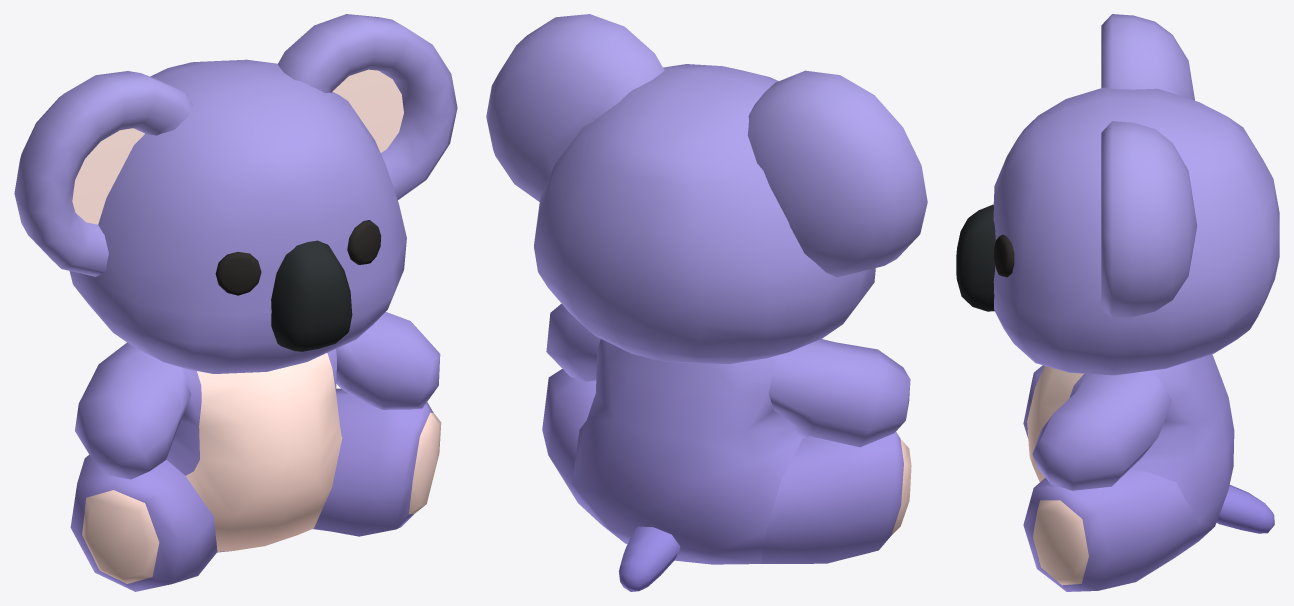
File: Koala_01.glb
3 views of the same model, side by side, from view 1: azimuth 30°, elevation 25°; view 2: azimuth 150°, elevation 25°; view 3: azimuth 270°, elevation 25° (orthographic). The views are drawn at different scales.
Visible parts, largest first — view 1: Koala_01; view 2: Koala_01; view 3: Koala_01.
Part boxes in pixels (bbox=[...]): Koala_01: bbox=[14, 14, 457, 591]; Koala_01: bbox=[486, 14, 927, 591]; Koala_01: bbox=[956, 14, 1279, 591].
Size of the model in its own units: 0.3978 by 0.442 by 0.2796.
Materials: 2 (2 with a texture image).
